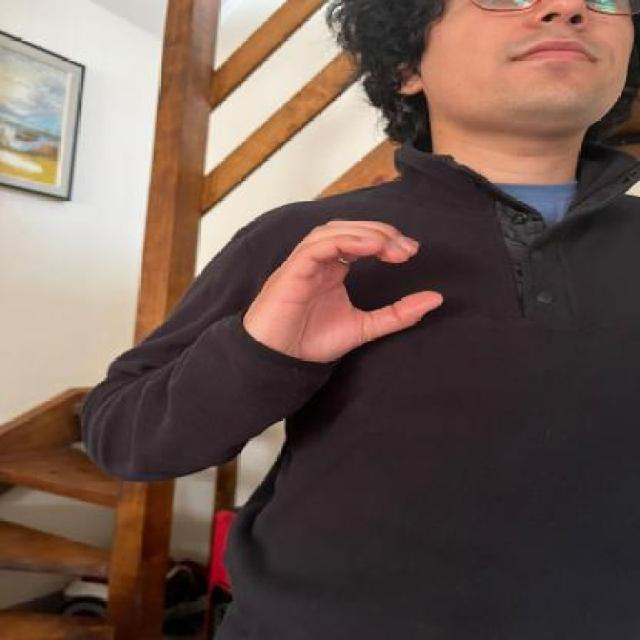C: (250, 212, 445, 361)
